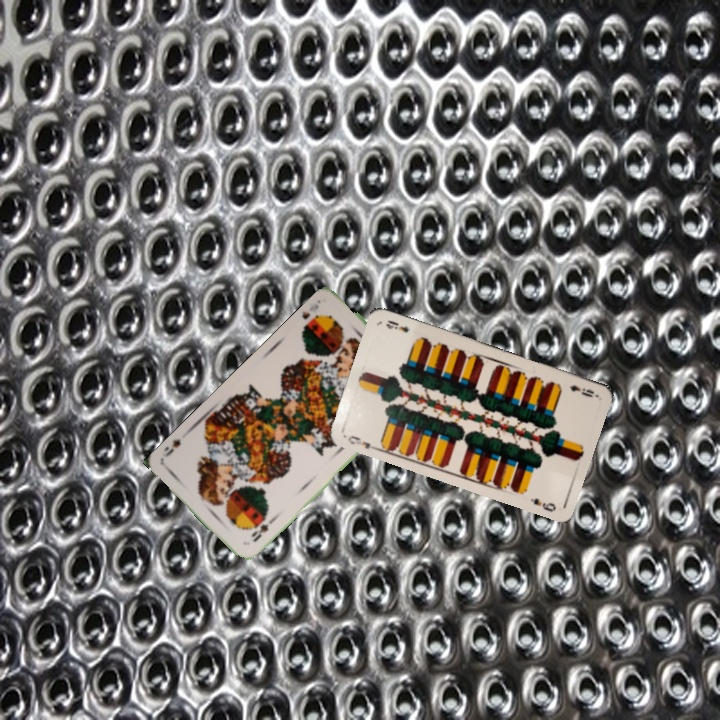E9: (344, 431, 380, 453), (565, 381, 598, 400)
SO: (299, 296, 324, 334), (247, 515, 277, 545)
